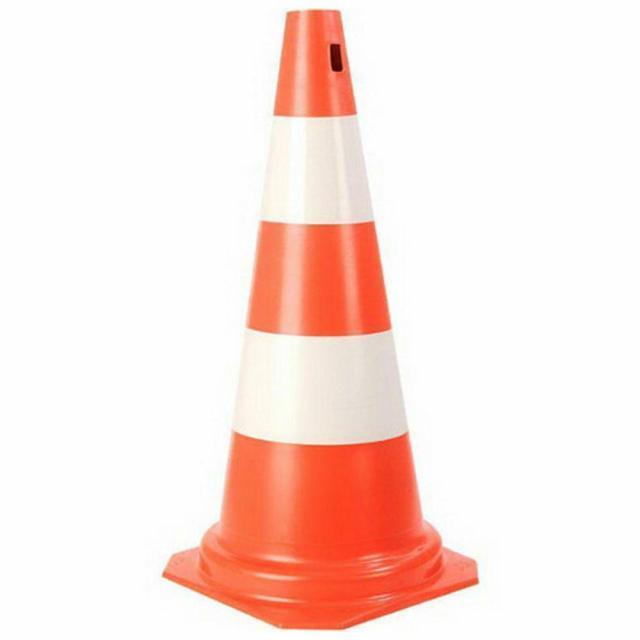traffic cone: (163, 9, 479, 632)
